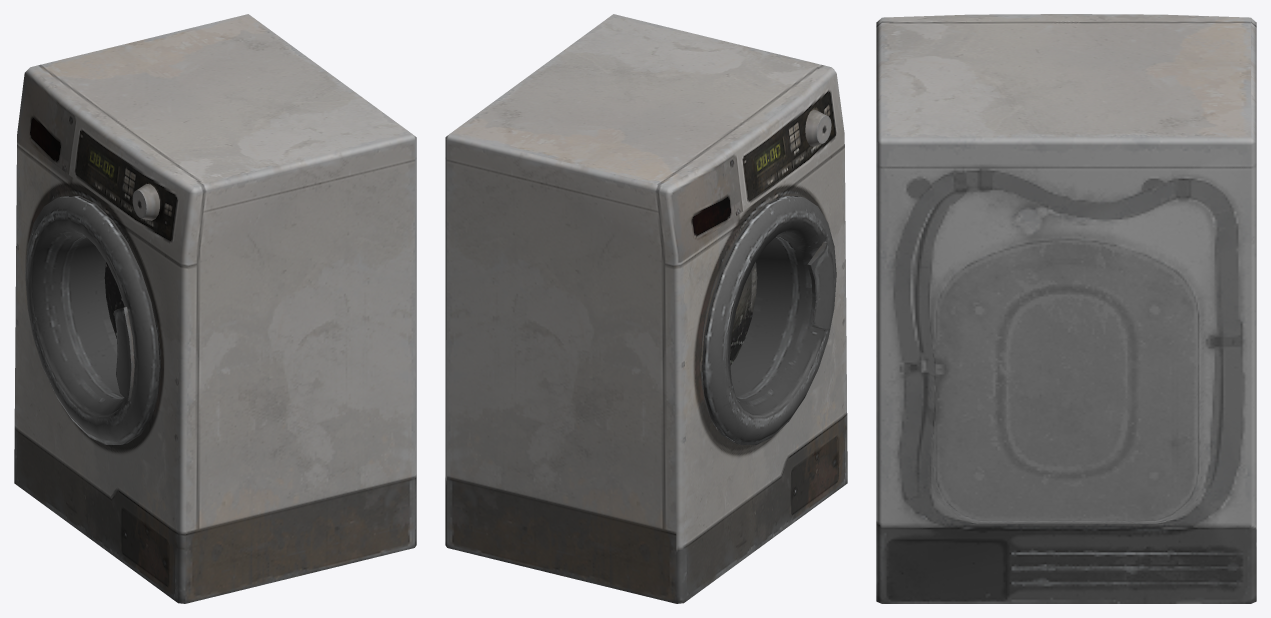
Rendered from CP_Washer_01.fbx.
The picture shows the model from 3 angles, left to right: view 1: azimuth 30°, elevation 25°; view 2: azimuth 150°, elevation 25°; view 3: azimuth 270°, elevation 25°; orthographic projection. The views are drawn at different scales.
Parts seen in each view (by area): view 1: CP_Washer_01_LOD0; view 2: CP_Washer_01_LOD0; view 3: CP_Washer_01_LOD0.
Part boxes in pixels (x1,y1,x2,y2): CP_Washer_01_LOD0: (14,14,416,603); CP_Washer_01_LOD0: (445,14,847,603); CP_Washer_01_LOD0: (876,14,1256,603).
Size of what is drawn, in the model's own units: 70.19 by 104 by 77.35.
